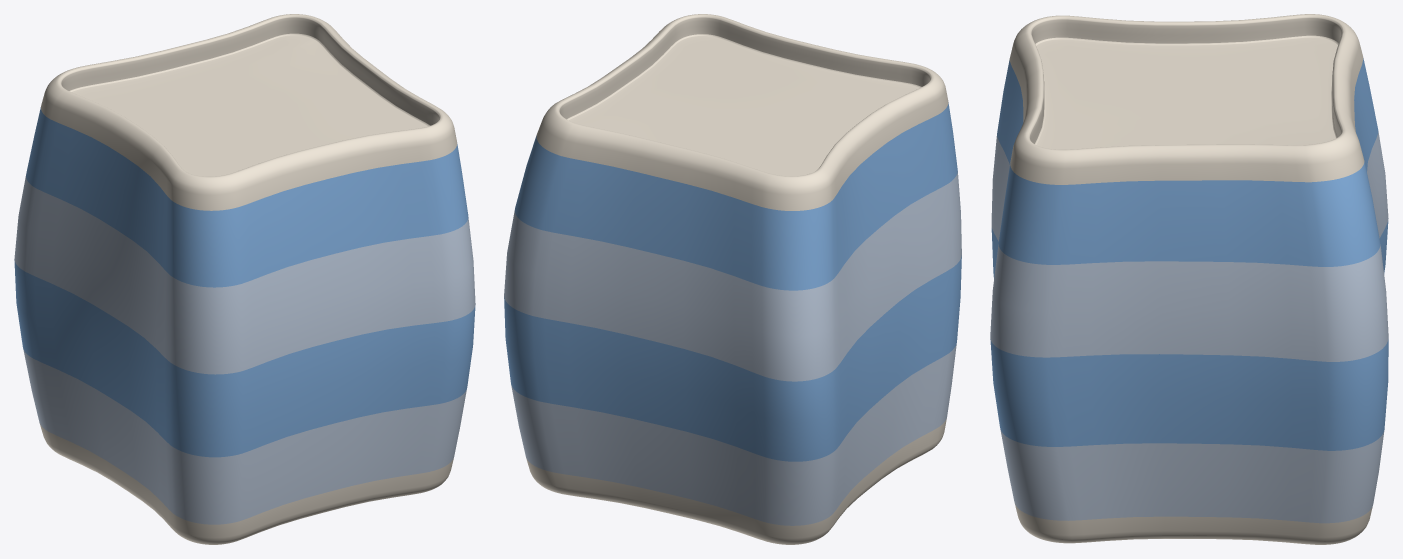
Rendered from SM_Building_06_Part_04.fbx.
3 views of the same model, side by side, from view 1: azimuth 30°, elevation 25°; view 2: azimuth 150°, elevation 25°; view 3: azimuth 270°, elevation 25° (orthographic). The views are drawn at different scales.
Visible parts, largest first — view 1: SM_Building_06_Part_04; view 2: SM_Building_06_Part_04; view 3: SM_Building_06_Part_04.
Boxes of the visible parts, box(x1,y1,x2,y2) form: SM_Building_06_Part_04: box(14, 14, 475, 544); SM_Building_06_Part_04: box(504, 14, 961, 544); SM_Building_06_Part_04: box(990, 14, 1388, 544).
Bounding box in the file's own units: 7311 × 8024 × 7250.
